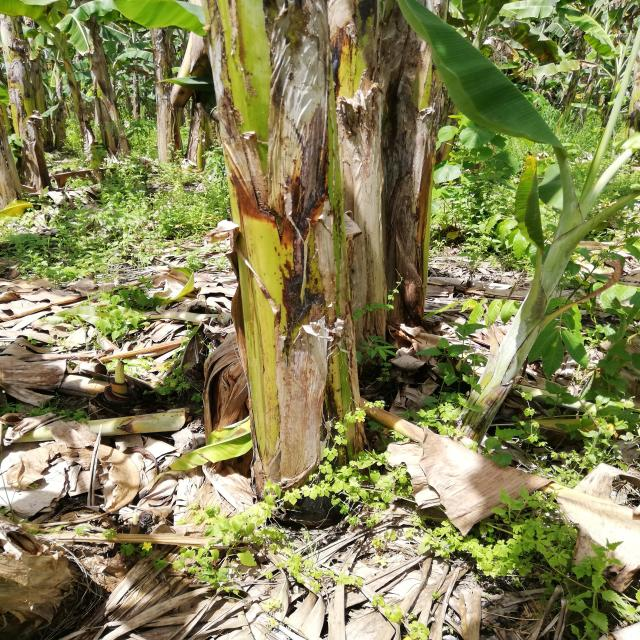Banana-plant: (200, 0, 342, 511), (309, 1, 404, 376), (382, 3, 448, 330)
